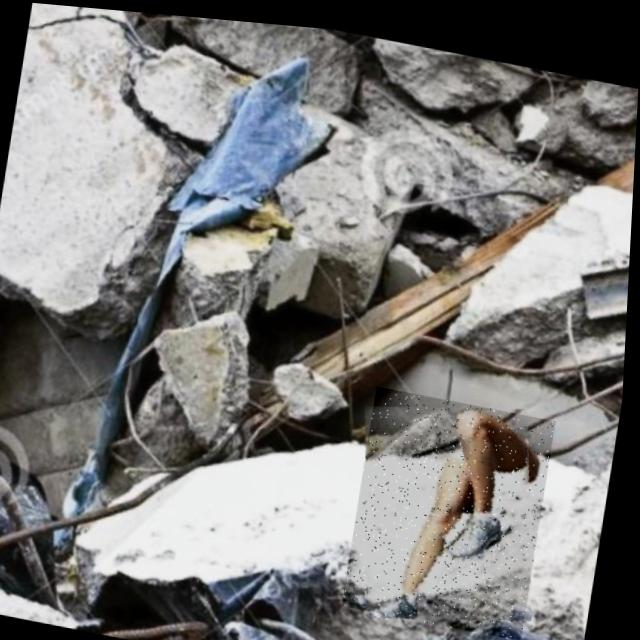Person in Rubble: (347, 377, 560, 632)
